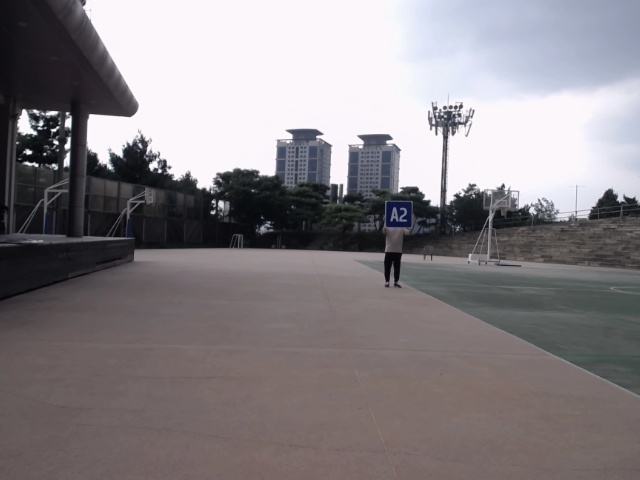delivery_a2: (385, 202, 413, 227)
